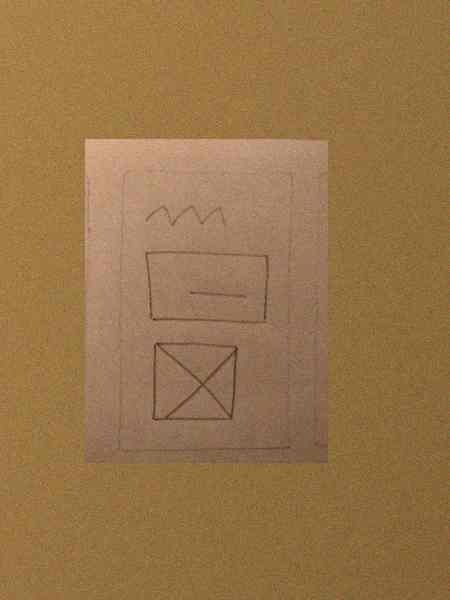button: (140, 246, 274, 329)
image: (144, 337, 244, 429)
text: (138, 197, 232, 234)
